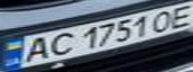1: (75, 24, 100, 51), (130, 12, 154, 38)
5: (115, 16, 139, 43)
7: (93, 20, 118, 47)
A: (15, 34, 54, 64)
C: (42, 29, 78, 57)
E: (163, 2, 193, 29)
O: (145, 8, 181, 34)
